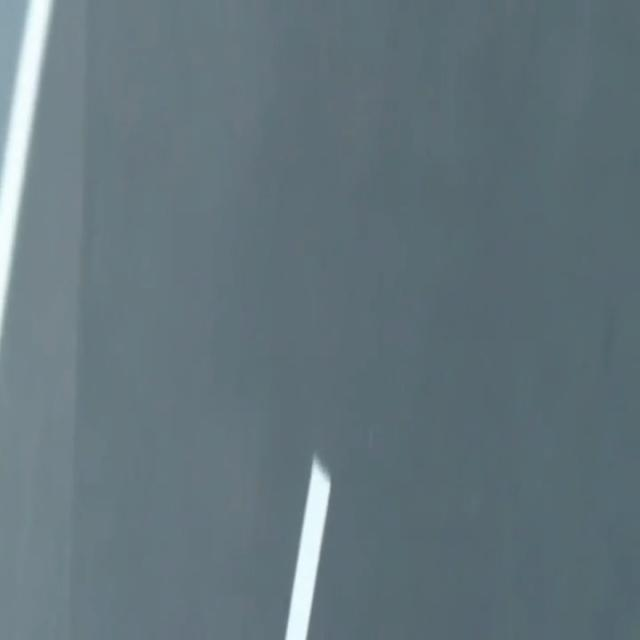center: (284, 455, 331, 639)
